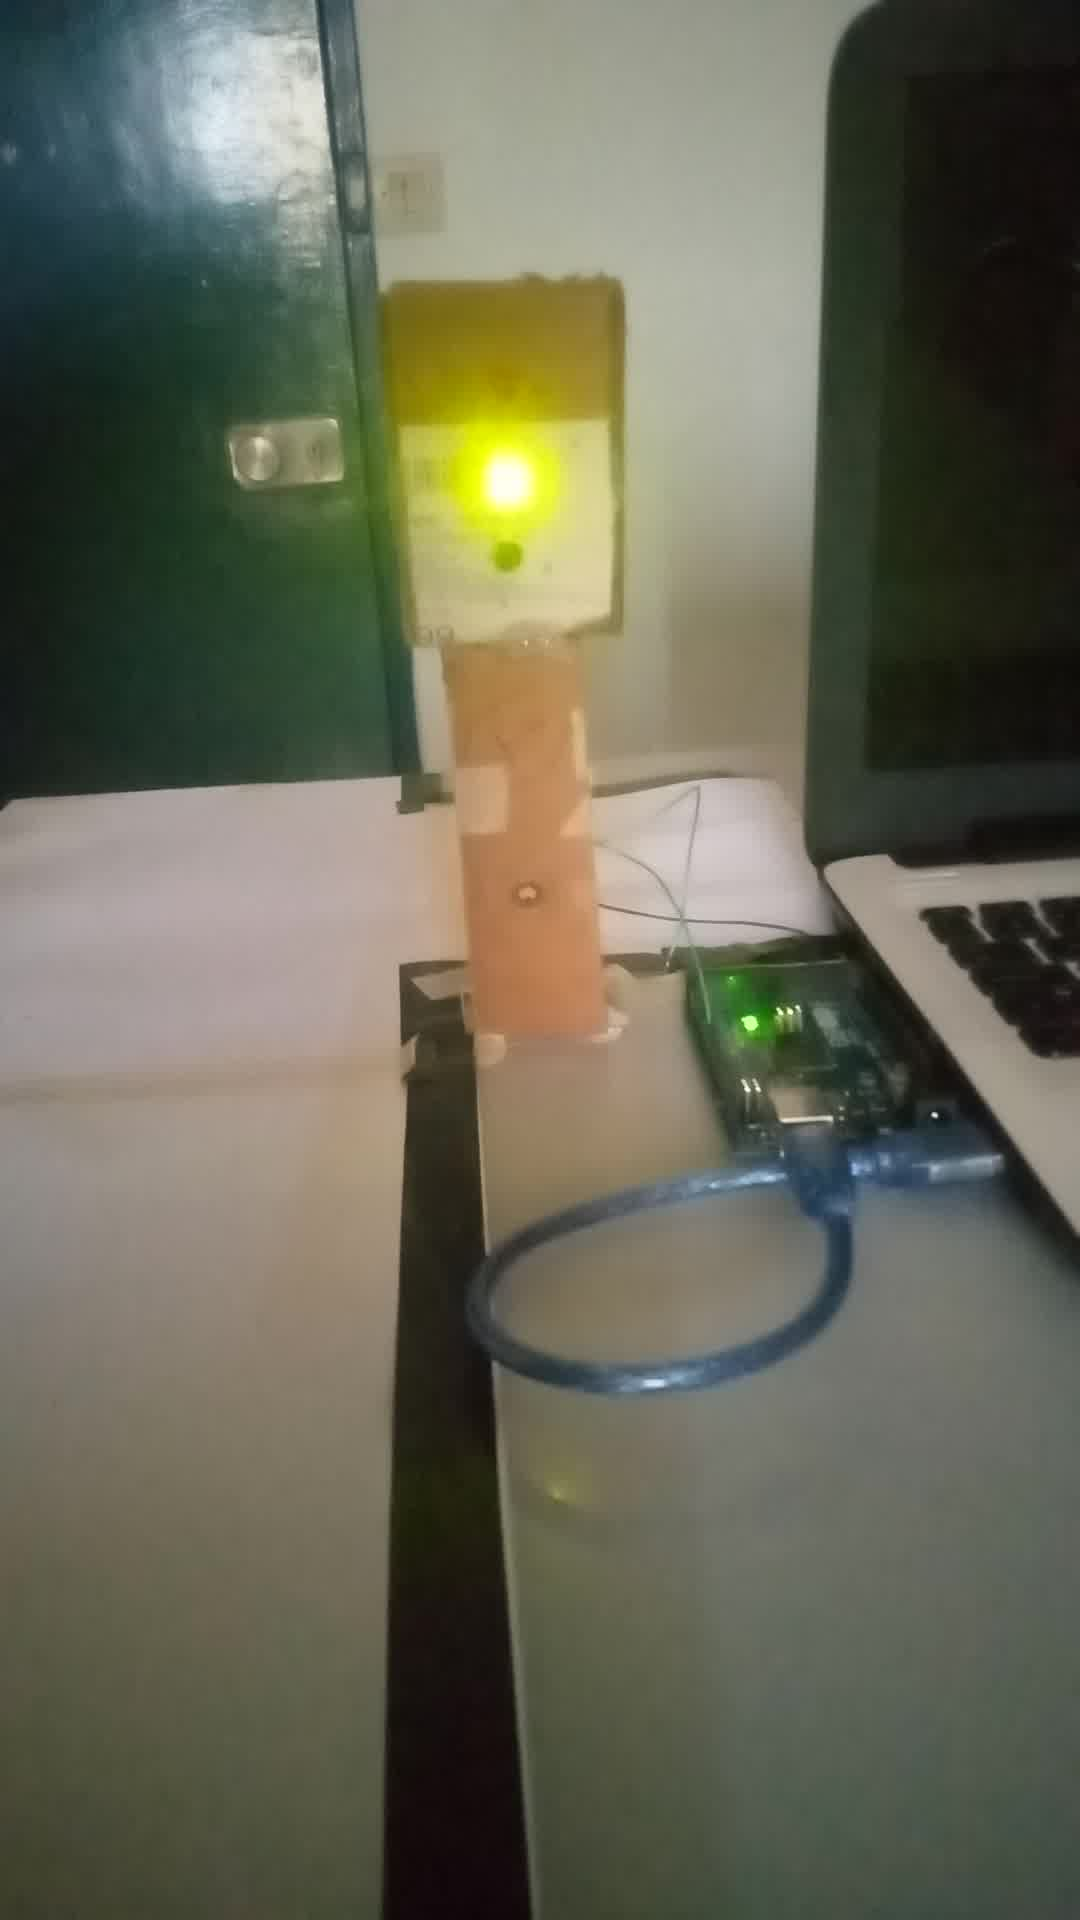yellow: (381, 286, 624, 632)
